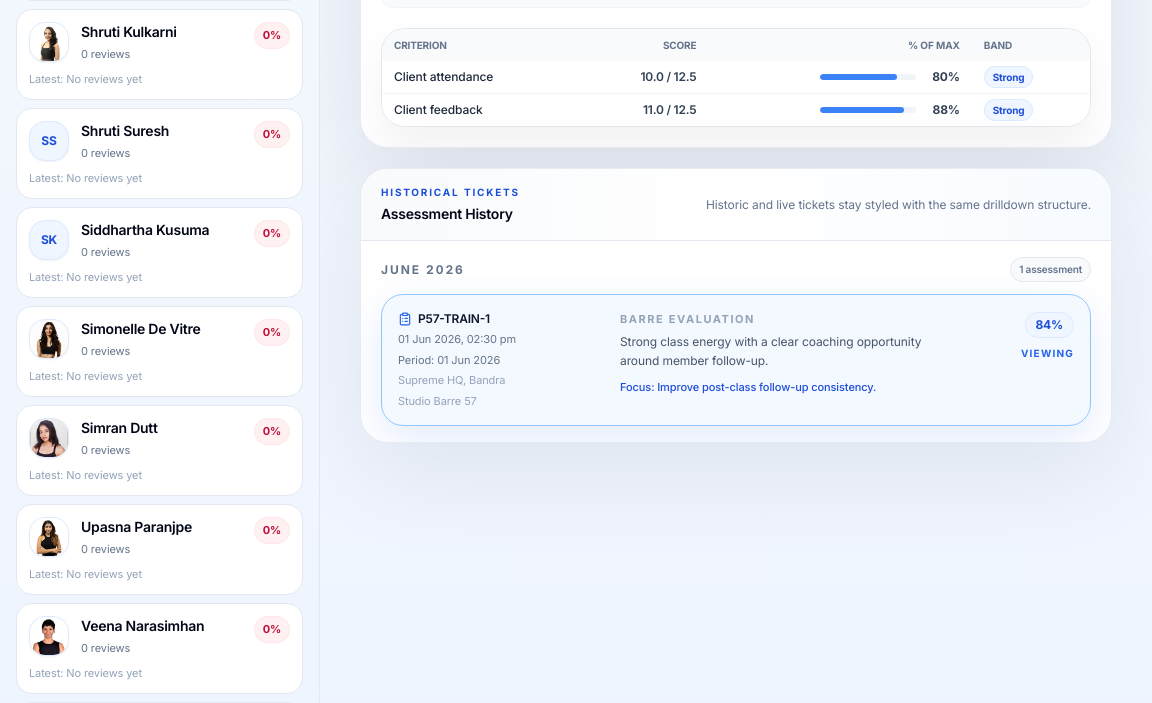
Scenario: TrainerProfilesPanel › opens a clicked previous ticket in the ticket preview report section and scrolls it into view
The width and height of the screenshot is (1152, 703).
(page scrolled)
Click the button "P57-TRAIN-1".
click(736, 360)  # box [382,295,1090,425]
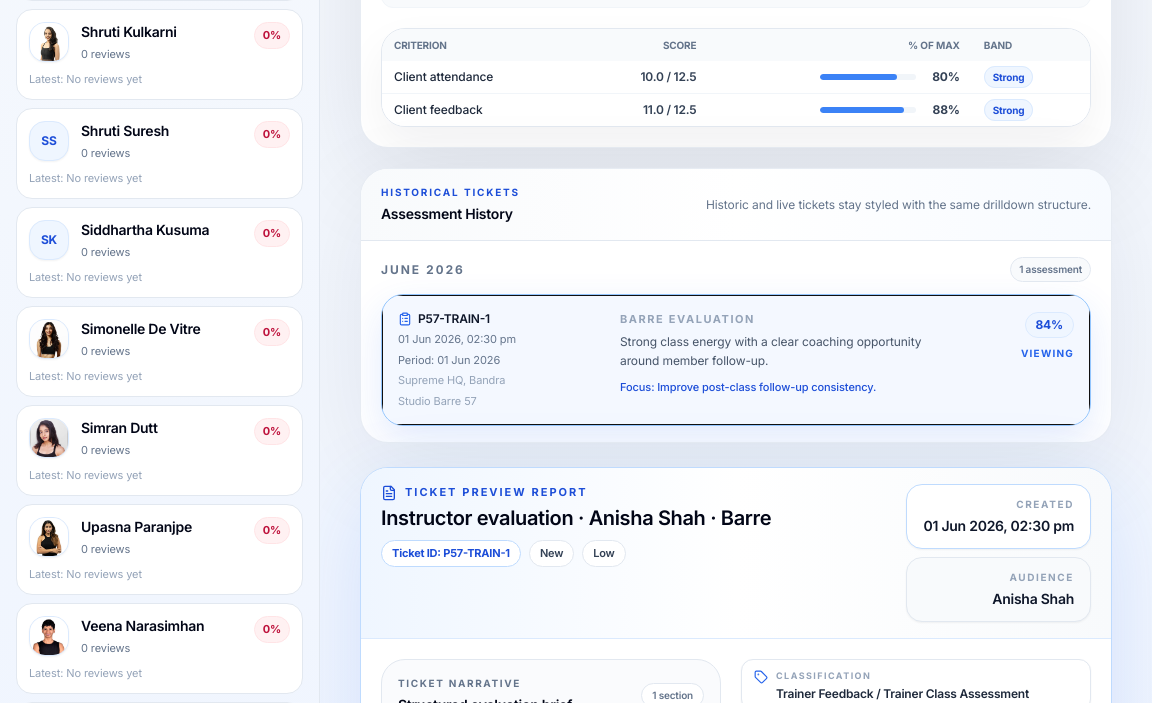
Expected: the text "P57-TRAIN-1" is shown, [398,311,490,326]
Expected: the text "Ticket Preview Report" is shown, [381,485,588,501]
Expected: the heading "Instructor evaluation · Anisha Shah · Barre" is shown, [381,505,771,532]
